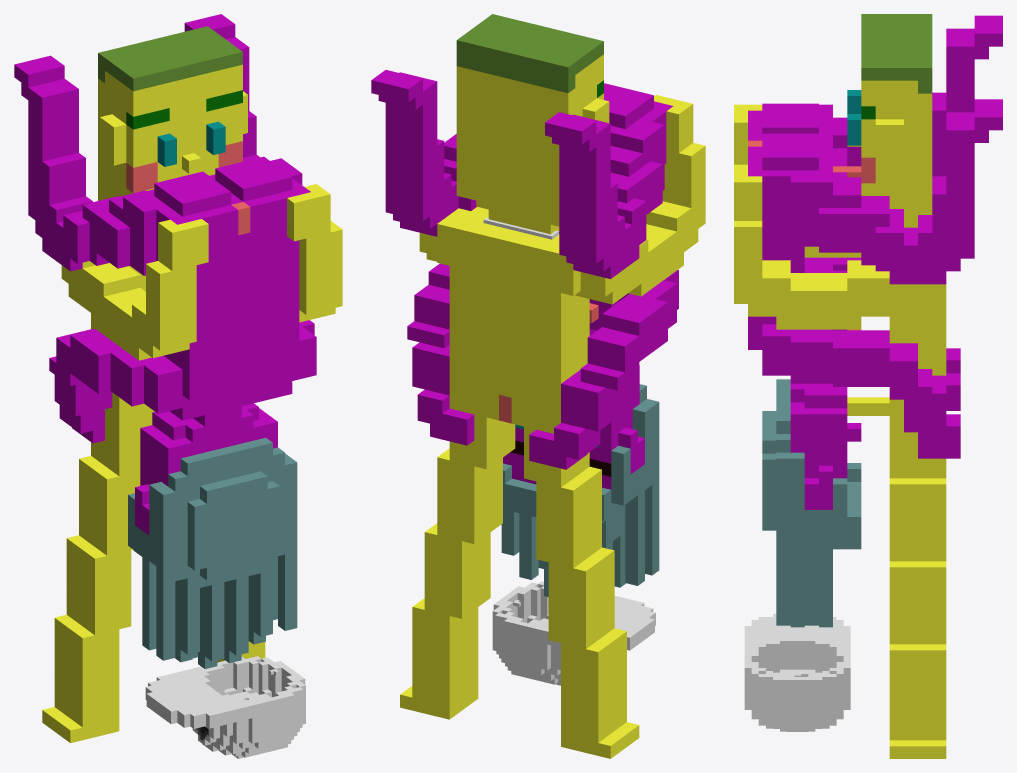
Rendered from kama5.glb.
The picture shows the model from 3 angles, left to right: view 1: azimuth 30°, elevation 25°; view 2: azimuth 150°, elevation 25°; view 3: azimuth 270°, elevation 25°; orthographic projection.
Parts seen in each view (by area): view 1: Node; view 2: Node; view 3: Node.
Part boxes in pixels (x1,y1,x2,y2): Node: [14, 14, 342, 758]; Node: [371, 14, 705, 758]; Node: [734, 14, 1002, 758].
Bounding box in the file's own units: 0.0981 × 0.3 × 0.1096.
Materials: 1 (1 with a texture image).
